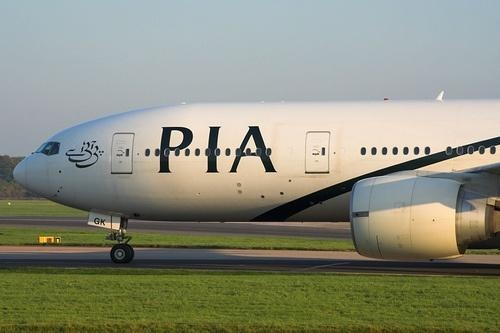aeroplane: (14, 91, 500, 265)
